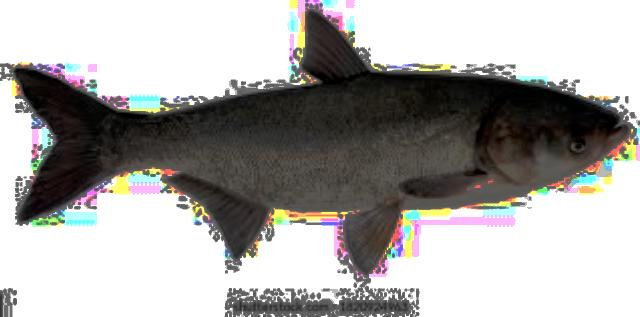Healthy Fish: (18, 12, 628, 270)
